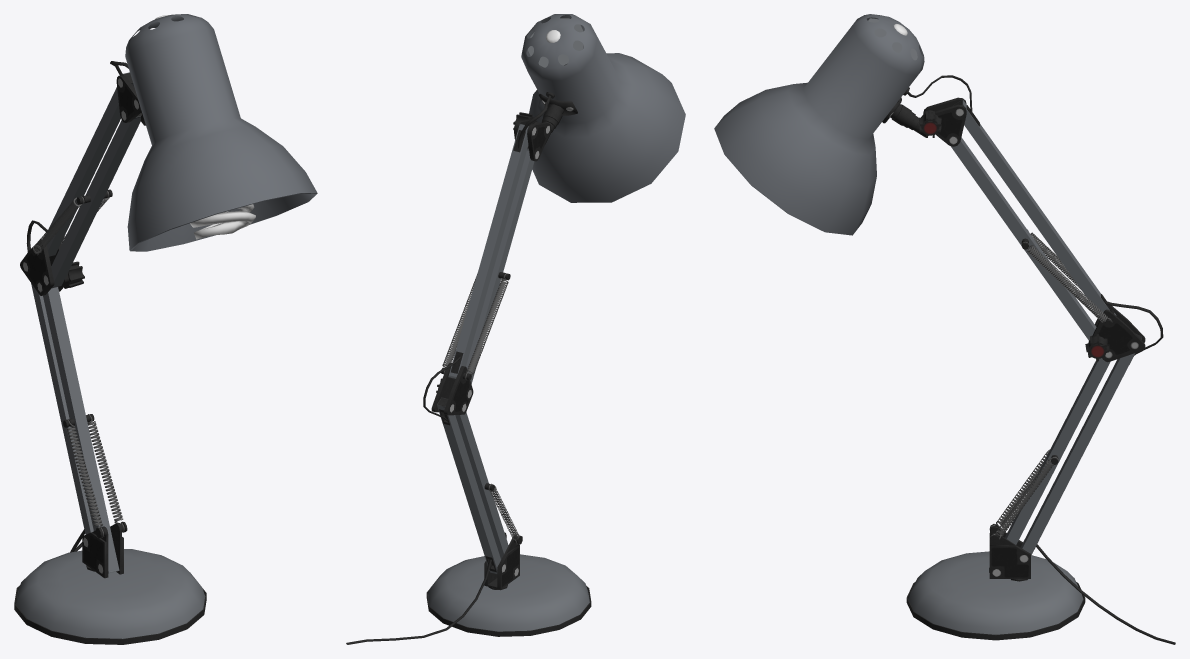
The model's file is TaskLamp.fbx.
The picture shows the model from 3 angles, left to right: view 1: azimuth 30°, elevation 25°; view 2: azimuth 150°, elevation 25°; view 3: azimuth 270°, elevation 25°; orthographic projection. The views are drawn at different scales.
Visible parts, largest first — view 1: ArticulatedTaskLamp; view 2: ArticulatedTaskLamp; view 3: ArticulatedTaskLamp.
Part boxes in pixels (box(x1,y1,x2,y2)): ArticulatedTaskLamp: box(14, 14, 317, 644); ArticulatedTaskLamp: box(346, 14, 685, 644); ArticulatedTaskLamp: box(714, 14, 1175, 644).
Bounding box in the file's own units: 12.81 × 43.76 × 31.24.
4 materials, 4 textured.
